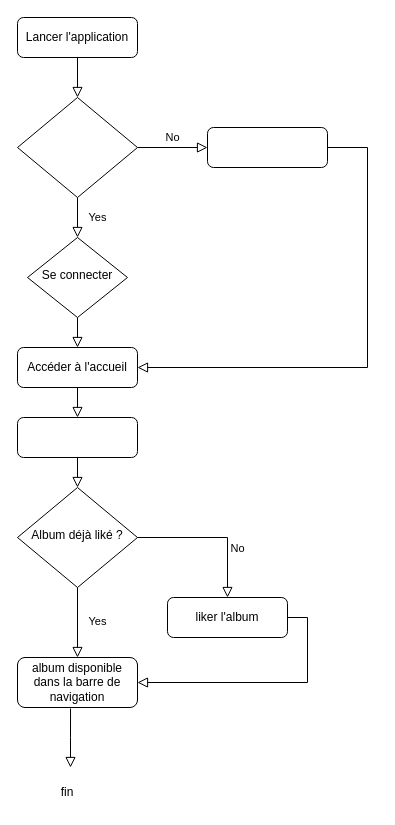
The diagram is 395 pixels wide and 825 high, and some of its shapes have lost their labels. The shapes that lost their labels are listed below. From the top down, each one's centre as x and y in pixels, then its label:
pixel 77 147: compte existant ?
pixel 267 147: Créer un compte
pixel 77 437: Cliquer sur un album
